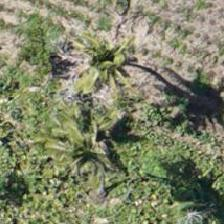coconut_tree: (59, 20, 149, 110), (46, 95, 136, 185)
